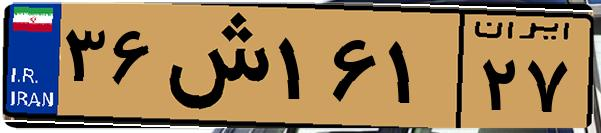1: (270, 28, 330, 110), (385, 28, 445, 110)
2: (475, 38, 525, 113)
3: (57, 26, 110, 100)
6: (330, 28, 385, 110), (110, 28, 158, 98)
7: (525, 38, 570, 115)
ش: (158, 12, 270, 120)
